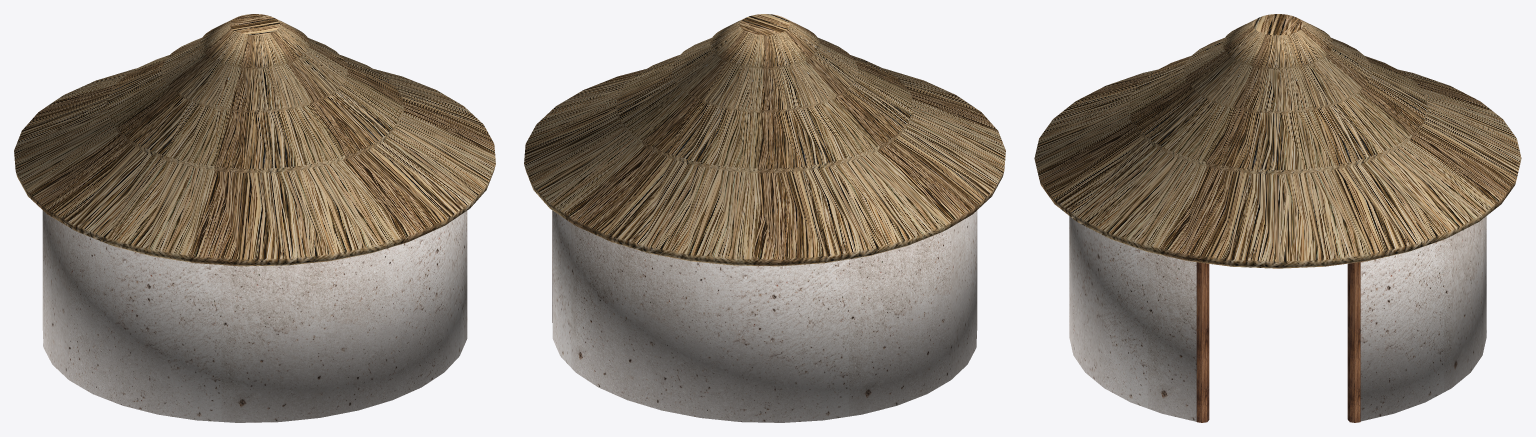
Rendered from GaulishRoundhouseSmall.fbx.
3 views of the same model, side by side, from view 1: azimuth 30°, elevation 25°; view 2: azimuth 150°, elevation 25°; view 3: azimuth 270°, elevation 25° (orthographic).
Parts seen in each view (by area): view 1: GaulishRoundhouseSmall; view 2: GaulishRoundhouseSmall; view 3: GaulishRoundhouseSmall.
Boxes of the visible parts, bbox=[...] form: GaulishRoundhouseSmall: bbox=[14, 14, 495, 422]; GaulishRoundhouseSmall: bbox=[524, 14, 1005, 422]; GaulishRoundhouseSmall: bbox=[1034, 14, 1521, 422].
Bounding box in the file's own units: 700 × 497 × 700.
